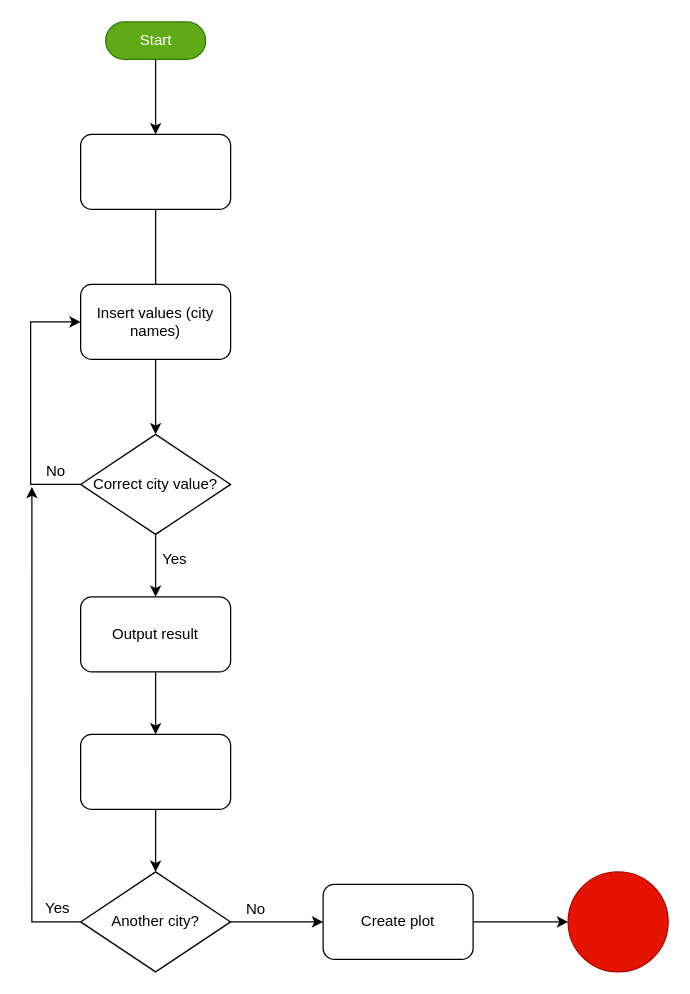
Some shapes in this 690 by 994 pixel diagram are drawn without their labels. Each missing label, with the centre of its shape:
Add to CSV: point 155,771
End!: point 617,921
GUI: point 155,171
